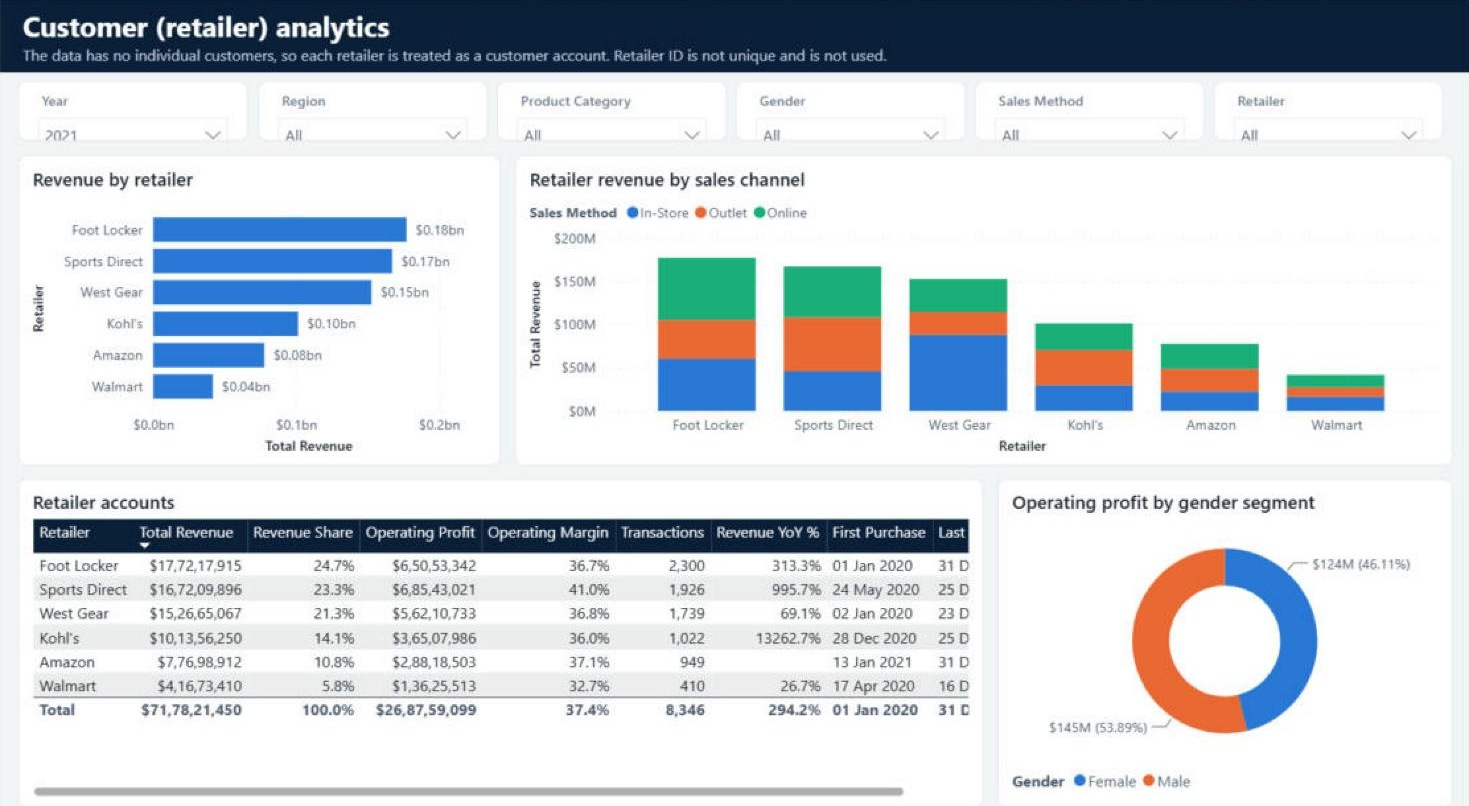

This screenshot's page, from the dashboard's own definition file:
{"tool":"powerbi","page":{"name":"Customer Analytics","canvas":[1280,720],"ordinal":4},"visuals":[{"type":"textbox","box":[0,0,1280,64],"z":1000},{"type":"slicer","fields":{"Values":["Calendar.Year"]},"box":[16,72,200,52],"z":2000},{"type":"slicer","fields":{"Values":["Geography.Region"]},"box":[224,72,200,52],"z":3000},{"type":"slicer","fields":{"Values":["Product.Product Category"]},"box":[432,72,200,52],"z":4000},{"type":"slicer","fields":{"Values":["Product.Gender"]},"box":[640,72,200,52],"z":5000},{"type":"slicer","fields":{"Values":["Sales Method.Sales Method"]},"box":[848,72,200,52],"z":6000},{"type":"slicer","fields":{"Values":["Retailer.Retailer"]},"box":[1056,72,200,52],"z":7000},{"type":"clusteredBarChart","title":"Revenue by retailer","fields":{"Category":["Retailer.Retailer"],"Y":["_Measures.Total Revenue"]},"box":[16,136,420,270],"z":8000},{"type":"columnChart","title":"Retailer revenue by sales channel","fields":{"Category":["Retailer.Retailer"],"Series":["Sales Method.Sales Method"],"Y":["_Measures.Total Revenue"]},"box":[448,136,816,270],"z":9000},{"type":"tableEx","title":"Retailer accounts","fields":{"Values":["Retailer.Retailer","_Measures.Total Revenue","_Measures.Revenue Share","_Measures.Operating Profit","_Measures.Operating Margin","_Measures.Transactions","_Measures.Revenue YoY %","_Measures.First Purchase","_Measures.Last Purchase"]},"box":[16,418,840,286],"z":10000},{"type":"donutChart","title":"Operating profit by gender segment","fields":{"Category":["Product.Gender"],"Y":["_Measures.Operating Profit"]},"box":[868,418,396,286],"z":11000}]}

Visuals, with their boxes in screenshot pixels (x1, y1, x2, y2), scaled from the page's 1280x720 canvas onto the 1469x806 screenshot:
textbox: detection(0, 0, 1468, 72)
slicer - Calendar.Year: detection(18, 81, 248, 139)
slicer - Geography.Region: detection(257, 81, 487, 139)
slicer - Product.Product Category: detection(496, 81, 725, 139)
slicer - Product.Gender: detection(734, 81, 964, 139)
slicer - Sales Method.Sales Method: detection(973, 81, 1203, 139)
slicer - Retailer.Retailer: detection(1212, 81, 1441, 139)
"Revenue by retailer" clusteredBarChart: detection(18, 152, 500, 454)
"Retailer revenue by sales channel" columnChart: detection(514, 152, 1451, 454)
"Retailer accounts" tableEx: detection(18, 468, 982, 788)
"Operating profit by gender segment" donutChart: detection(996, 468, 1451, 788)
